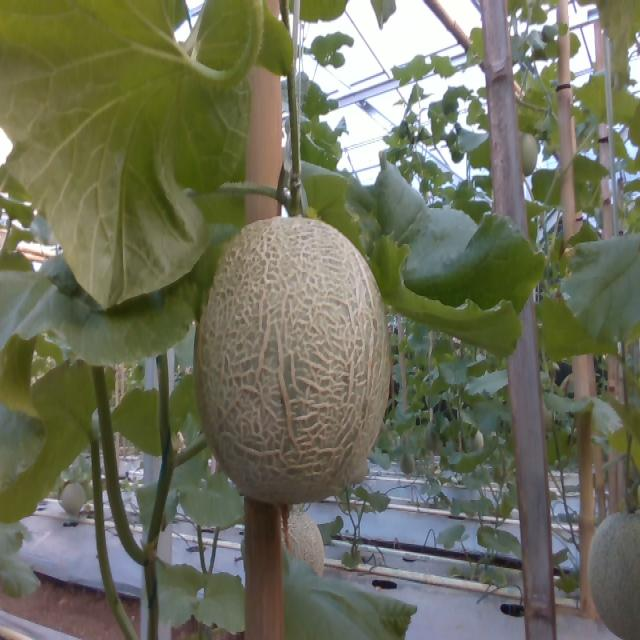melon: (195, 217, 391, 506)
